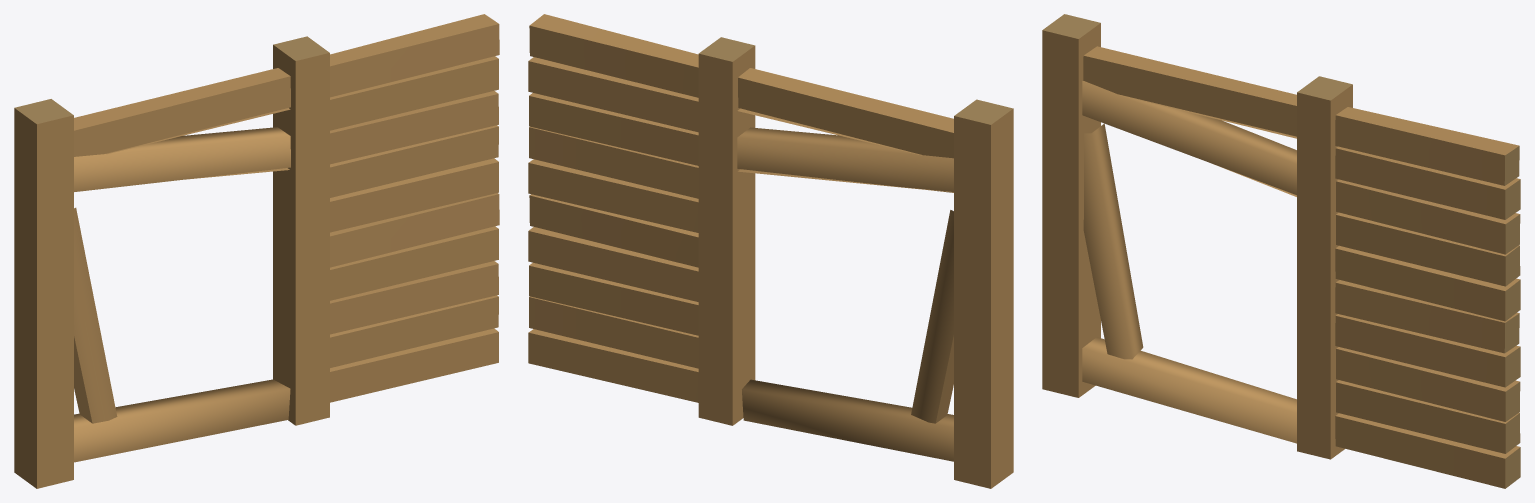
The model's file is WoodenFenceBroken.gltf.
The picture shows the model from 3 angles, left to right: view 1: azimuth 30°, elevation 25°; view 2: azimuth 150°, elevation 25°; view 3: azimuth 330°, elevation 25°; orthographic projection.
Visible parts, largest first — view 1: Wall_FirstAge; view 2: Wall_FirstAge; view 3: Wall_FirstAge.
Part boxes in pixels (box(x1,y1,x2,y2)): Wall_FirstAge: box(14, 14, 499, 488); Wall_FirstAge: box(528, 14, 1013, 488); Wall_FirstAge: box(1042, 14, 1520, 488).
Size of the model in its own units: 0.7039 by 0.526 by 0.0589.
